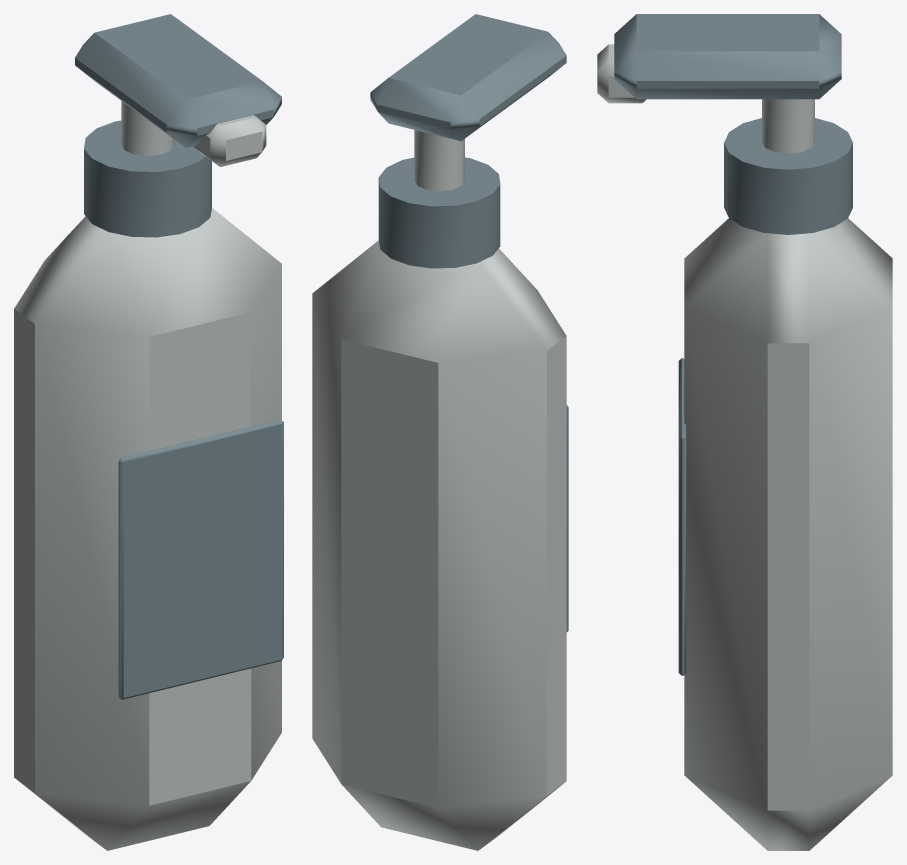
Rendered from pump-bottle.glb.
3 renders of one model, left to right at view 1: azimuth 30°, elevation 25°; view 2: azimuth 150°, elevation 25°; view 3: azimuth 270°, elevation 25°, orthographic. The views are drawn at different scales.
Parts seen in each view (by area): view 1: bottle, label_panel, pump_head, neck, nozzle_tip, plunger; view 2: bottle, pump_head, neck, plunger, label_panel; view 3: bottle, pump_head, neck, plunger, label_panel, nozzle_tip.
Part boxes in pixels (x1,y1,x2,y2): bottle: (14,208,281,850); label_panel: (118,419,283,699); pump_head: (75,14,281,147); neck: (84,120,211,237); nozzle_tip: (193,115,266,166); plunger: (121,101,174,155); bottle: (312,240,566,850); pump_head: (370,14,566,140); neck: (378,157,500,268); plunger: (414,130,464,191); label_panel: (566,405,568,631); bottle: (684,218,892,850); pump_head: (614,14,841,99); neck: (724,118,852,234); plunger: (762,99,814,153); label_panel: (678,358,686,675); nozzle_tip: (597,44,646,103).
Size of the model in its own units: 0.075 by 0.231 by 0.078.
